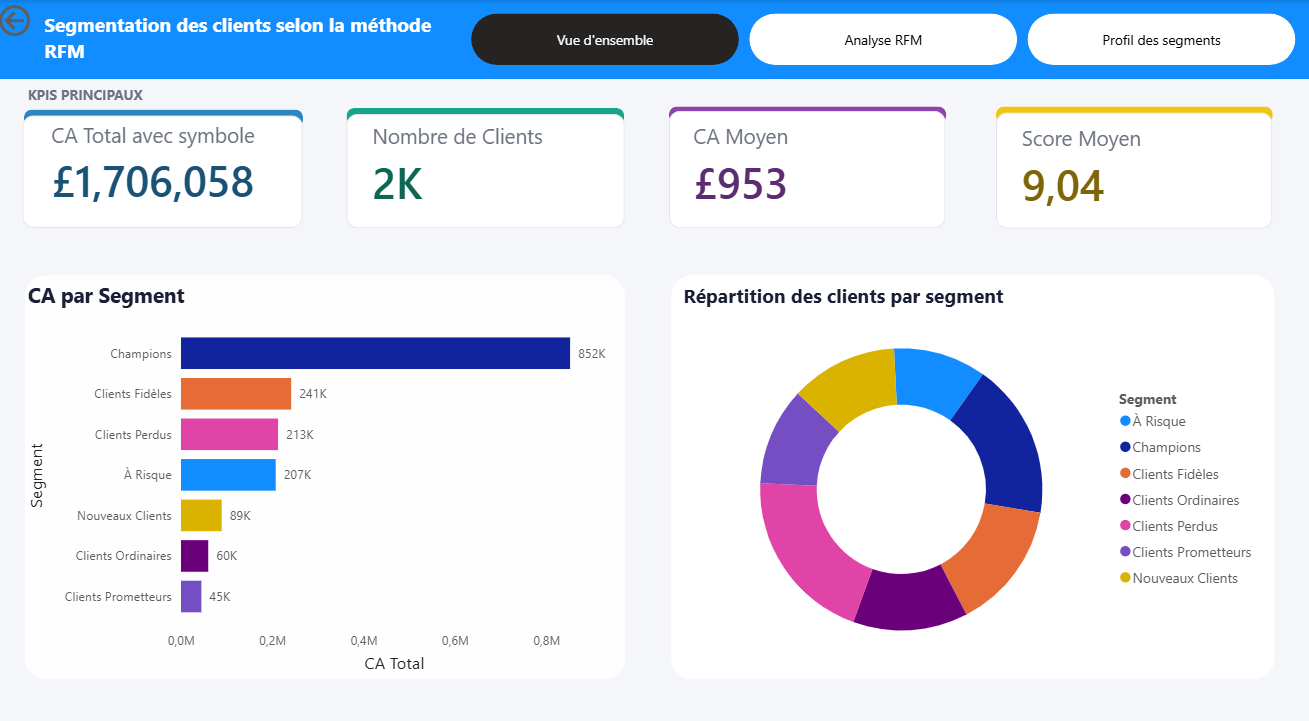

This screenshot's page, from the dashboard's own definition file:
{"tool":"powerbi","page":{"name":"Vue d'ensemble","canvas":[1280,720],"ordinal":0},"visuals":[{"type":"shape","box":[28.5,105.6,270.8,17.7],"z":0},{"type":"shape","box":[342.3,104.5,269.5,16.5],"z":1000},{"type":"shape","box":[654.8,103.5,269,16.5],"z":2000},{"type":"shape","box":[972.8,104,268.5,17],"z":3000},{"type":"shape","box":[28.2,112.7,271.8,109.1],"z":4000},{"type":"shape","box":[341.8,110.9,270,110.9],"z":5000},{"type":"shape","box":[655.5,108.2,268.2,113.6],"z":6000},{"type":"shape","box":[972.7,109.1,268.2,112.7],"z":7000},{"type":"shape","box":[0,0,1280,76.7],"z":8000},{"type":"textbox","box":[43.6,6.4,420,63.6],"z":9000},{"type":"pageNavigator","box":[463.3,13.3,800,50],"z":11000},{"type":"textbox","box":[28.3,76.7,166.7,33.3],"z":12000},{"type":"cardVisual","fields":{"Data":["rfm_final.CA Total"]},"box":[43.6,116.7,249.2,86.9],"z":13000},{"type":"cardVisual","fields":{"Data":["rfm_final.Nb Clients"]},"box":[354.5,116.4,242.7,90],"z":16000},{"type":"cardVisual","fields":{"Data":["rfm_final.CA Moyen"]},"box":[667.3,116.4,242.7,89.1],"z":19000},{"type":"cardVisual","fields":{"Data":["rfm_final.Score Moyen"]},"box":[985.5,116.4,242.7,93.6],"z":22000},{"type":"clusteredBarChart","title":"CA par Segment","fields":{"Category":["rfm_final.Segment"],"Y":["rfm_final.CA Total"]},"box":[29.1,266.4,583.7,393],"z":25000},{"type":"donutChart","title":"Répartition des clients par segment","fields":{"Y":["rfm_final.Clients analysés"],"Series":["rfm_final.Segment"]},"box":[656.5,266.4,586.6,393],"z":26000},{"type":"actionButton","box":[0,0,100,40],"z":28000}]}

Visuals, with their boxes in screenshot pixels (x1, y1, x2, y2), scaled from the page's 1280x720 canvas onto the 1309x721 screenshot:
shape: (29, 106, 306, 123)
shape: (350, 105, 626, 121)
shape: (670, 104, 945, 120)
shape: (995, 104, 1269, 121)
shape: (29, 113, 307, 222)
shape: (350, 111, 626, 222)
shape: (670, 108, 945, 222)
shape: (995, 109, 1269, 222)
shape: (0, 0, 1308, 77)
textbox: (45, 6, 474, 70)
pageNavigator: (474, 13, 1292, 63)
textbox: (29, 77, 199, 110)
cardVisual - rfm_final.CA Total: (45, 117, 299, 204)
cardVisual - rfm_final.Nb Clients: (363, 117, 611, 207)
cardVisual - rfm_final.CA Moyen: (682, 117, 931, 206)
cardVisual - rfm_final.Score Moyen: (1008, 117, 1256, 210)
"CA par Segment" clusteredBarChart: (30, 267, 627, 660)
"Répartition des clients par segment" donutChart: (671, 267, 1271, 660)
actionButton: (0, 0, 102, 40)
